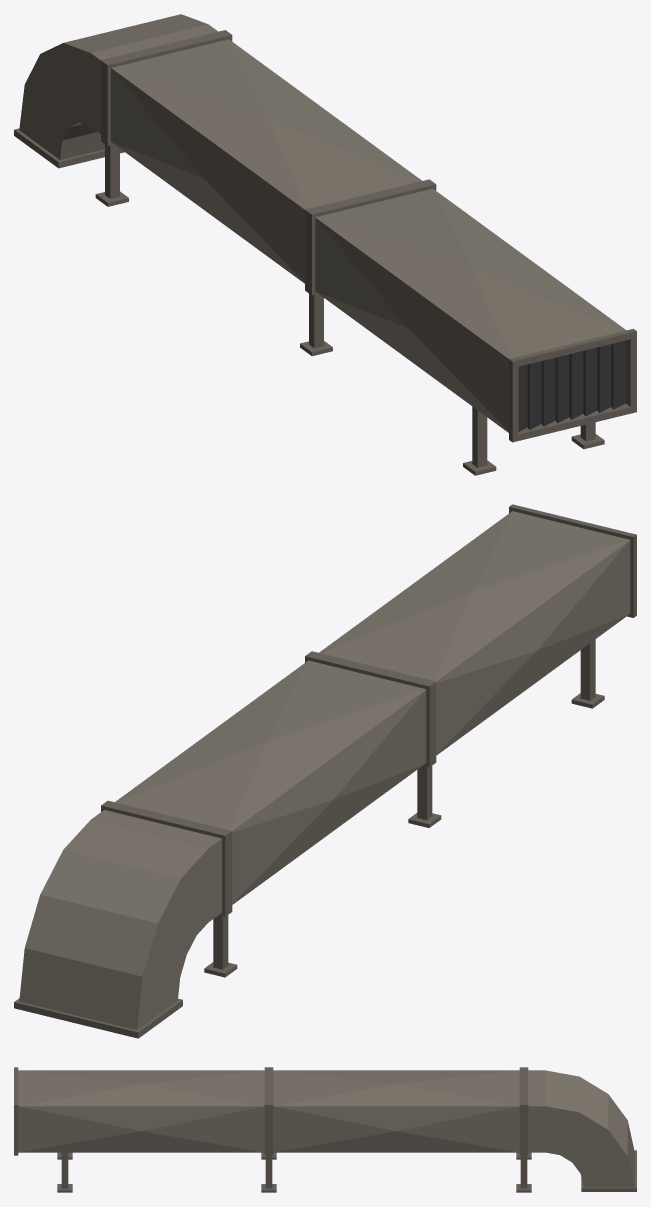
Rendered from SM_Props_Roof_Vent_Set_04.fbx.
3 renders of one model, top to bottom at view 1: azimuth 30°, elevation 25°; view 2: azimuth 150°, elevation 25°; view 3: azimuth 270°, elevation 25°, orthographic. The views are drawn at different scales.
Parts seen in each view (by area): view 1: SM_Props_Roof_Vent_Set_04; view 2: SM_Props_Roof_Vent_Set_04; view 3: SM_Props_Roof_Vent_Set_04.
Part boxes in pixels (bbox=[...]): SM_Props_Roof_Vent_Set_04: bbox=[14, 14, 636, 475]; SM_Props_Roof_Vent_Set_04: bbox=[14, 504, 636, 1038]; SM_Props_Roof_Vent_Set_04: bbox=[14, 1067, 636, 1192].
Bounding box in the file's own units: 110 × 115 × 733.
